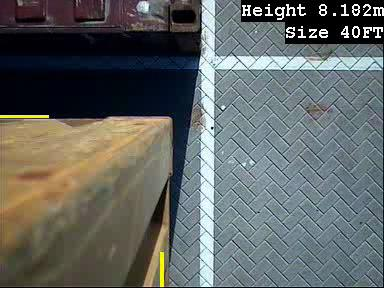groundmarker_2: (197, 161, 244, 219)
